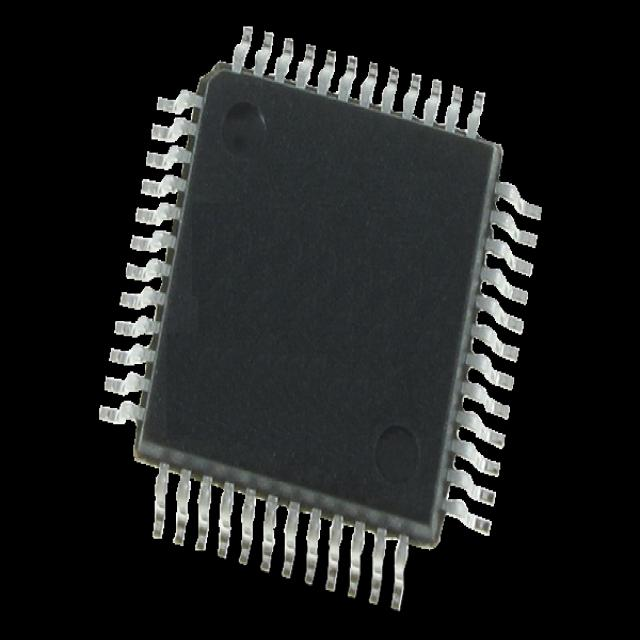IC: (117, 38, 527, 594)
